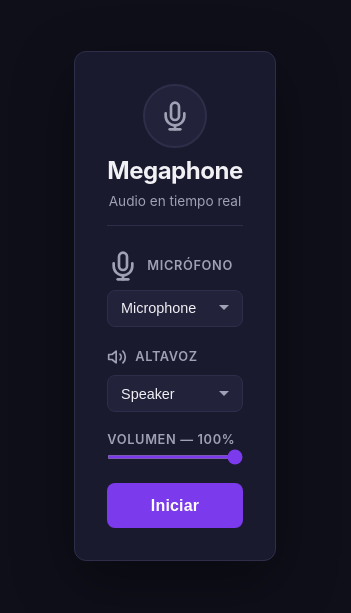
Scenario: App Component › shows error when getUserMedia fails on start
Click the button "Iniciar": (175, 506) x1=107 y1=483 x2=243 y2=528
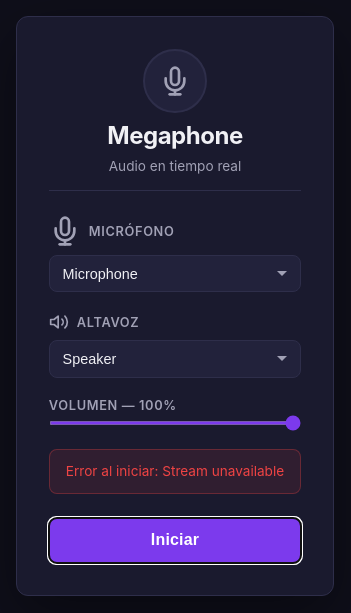
Expected: the text "Error al iniciar: Stream unavailable" is shown, x1=49 y1=449 x2=301 y2=494
